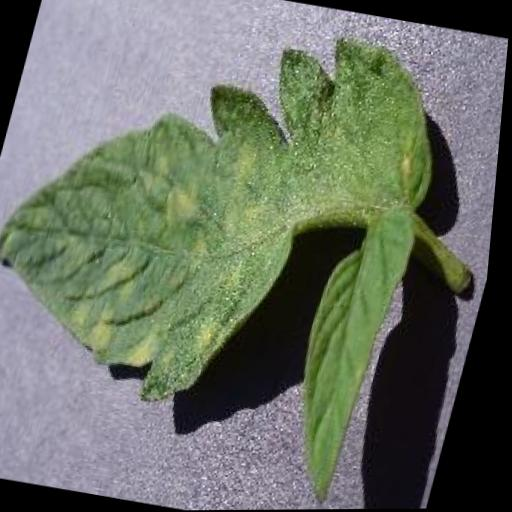Leaf Mold: (0, 0, 471, 441)
